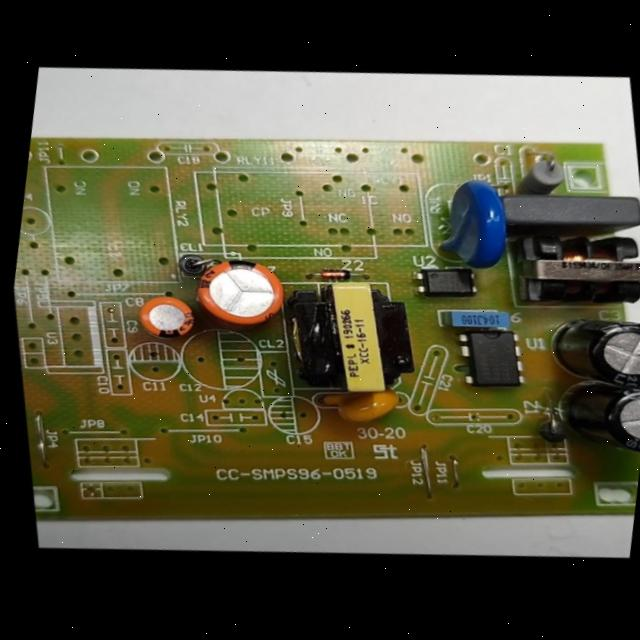Cap1: (179, 242, 301, 341)
Cap2: (130, 288, 206, 349)
Cap3: (530, 301, 640, 405)
Cap4: (539, 368, 640, 470)
MOSFET: (448, 319, 536, 396)
Mov: (410, 168, 528, 282)
Resistor: (503, 150, 576, 204)
Transformer: (266, 263, 436, 415), (498, 210, 640, 326)
